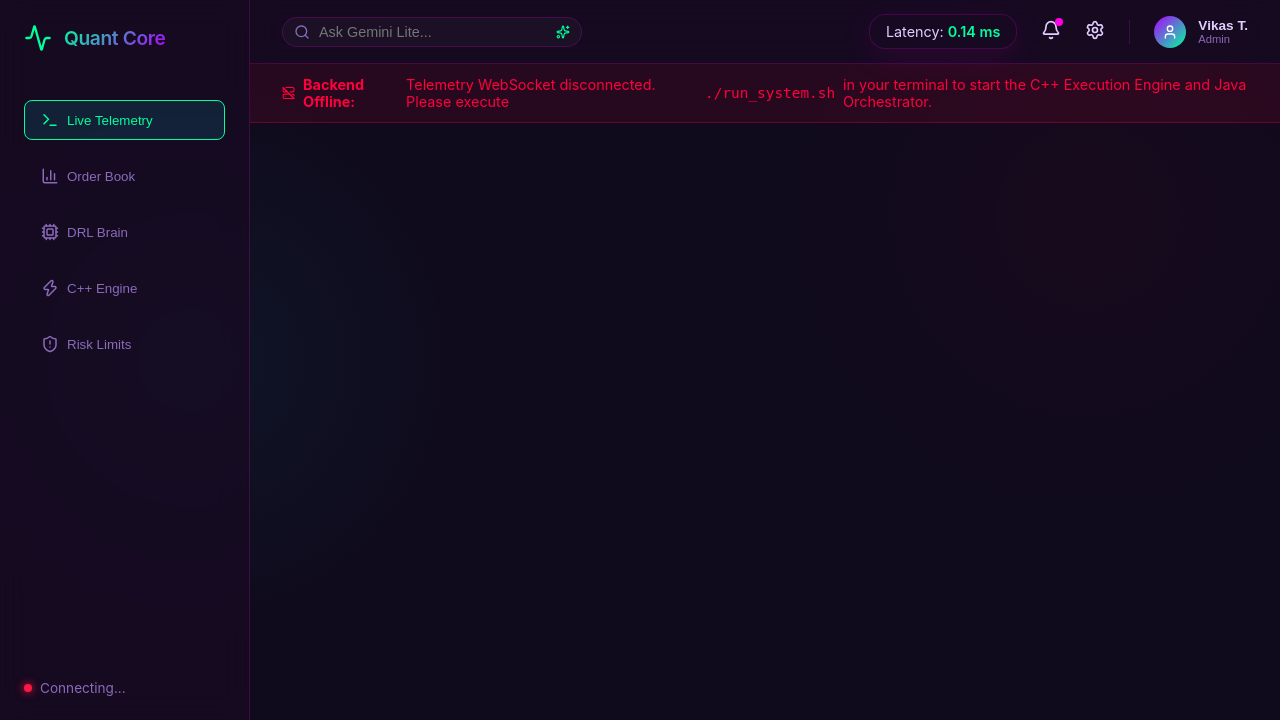
Scenario: HFT React Dashboard › switches to the Order Book tab when clicked
Step 1. Click the button "Order Book" → (124, 176), box top-left (24, 156), bottom-right (225, 196)
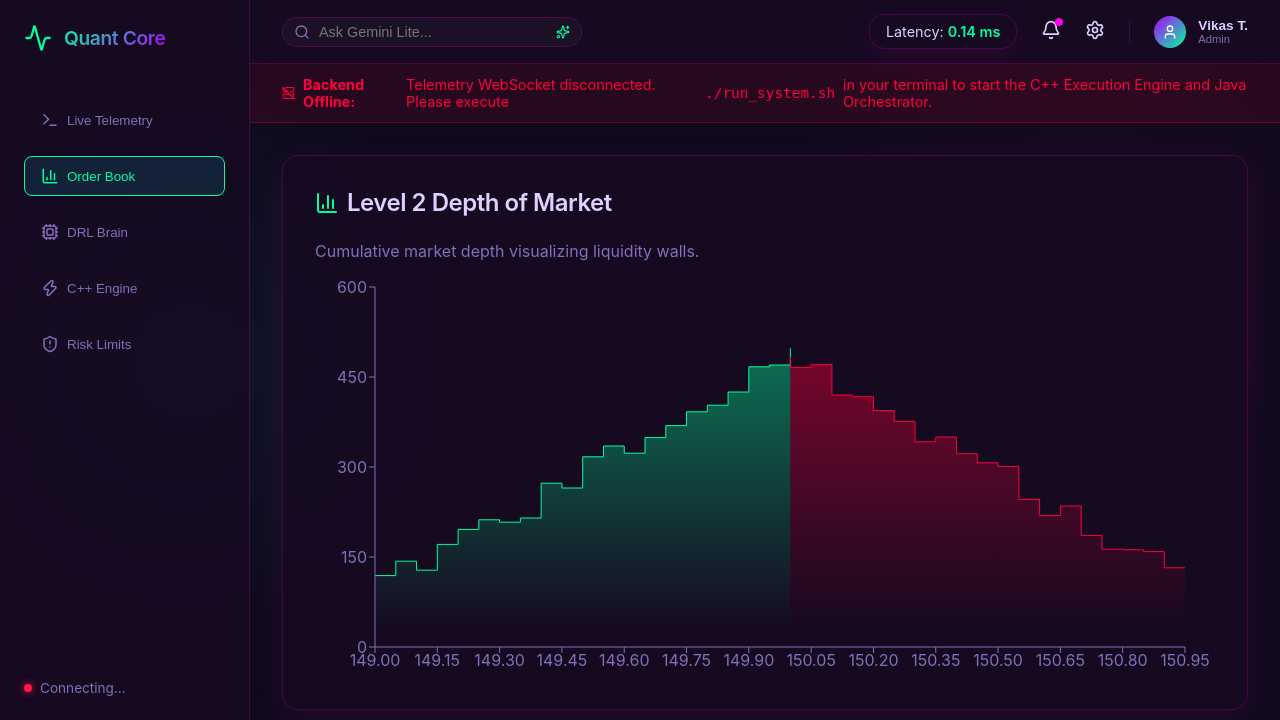
Now the heading "Level 2 Depth of Market" is shown, box top-left (315, 188), bottom-right (612, 217)
